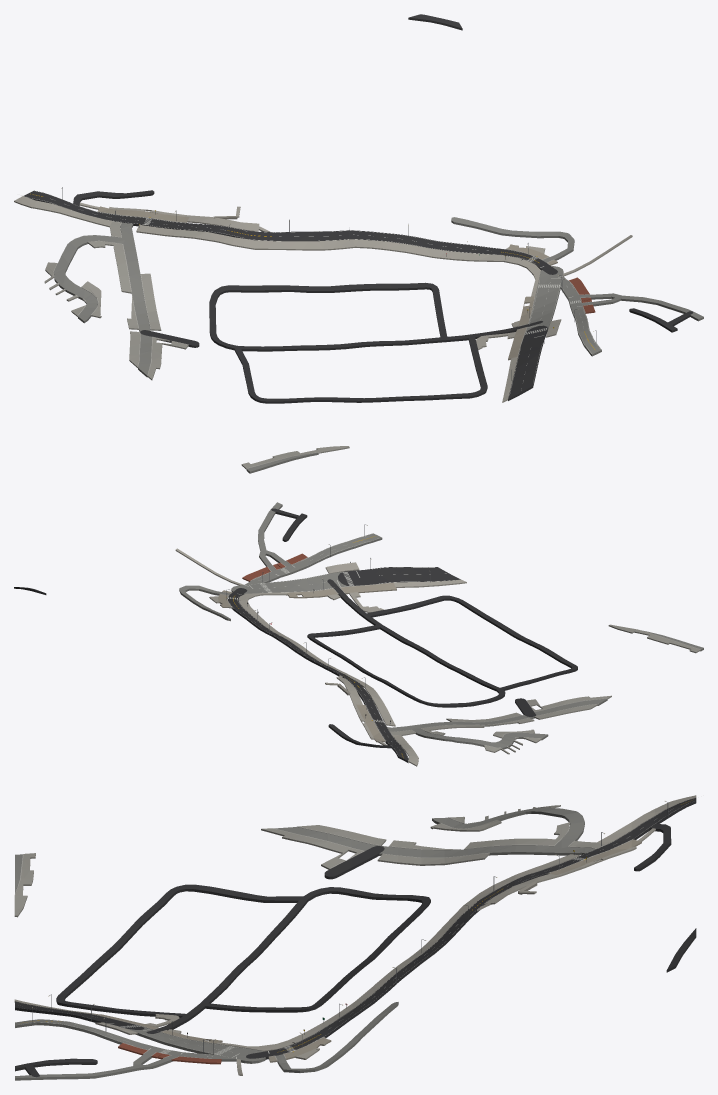
3 renders of one model, top to bottom at view 1: azimuth 30°, elevation 25°; view 2: azimuth 150°, elevation 25°; view 3: azimuth 270°, elevation 25°, orthographic. The views are drawn at different scales.
Bounding box in the file's own units: 293 × 91.42 × 295.
